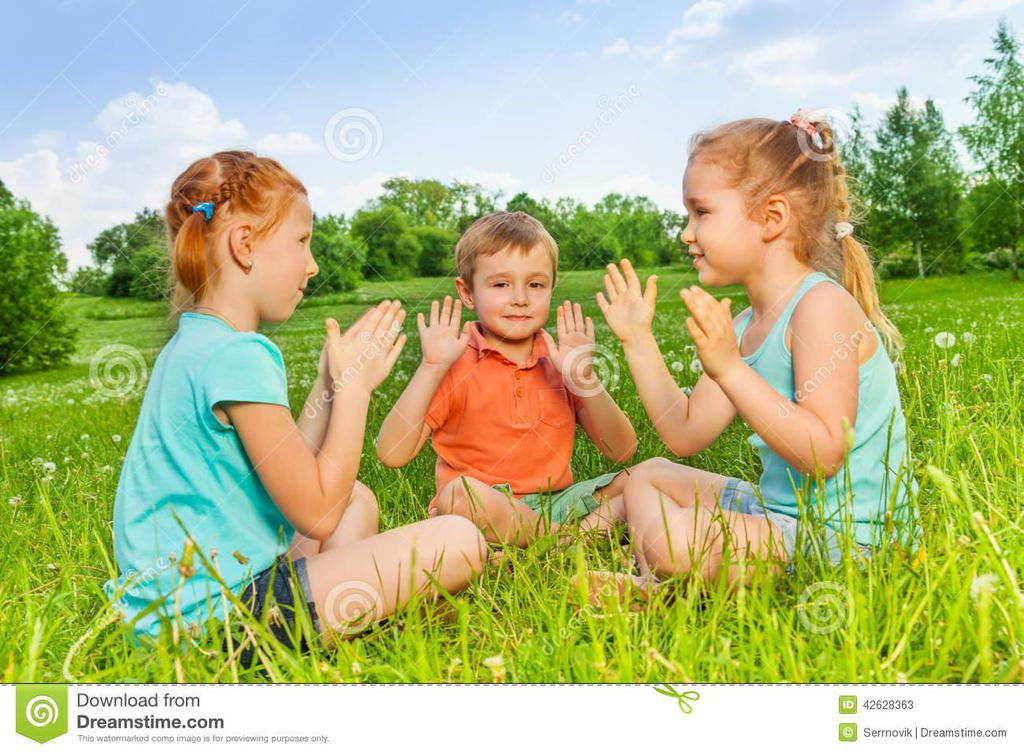child: (84, 136, 498, 648), (609, 104, 930, 610), (390, 197, 634, 567)
